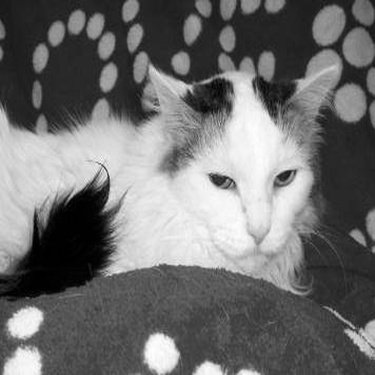cat: (1, 64, 369, 313)
